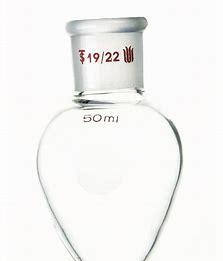Pear shaped flask: (32, 7, 182, 255)
